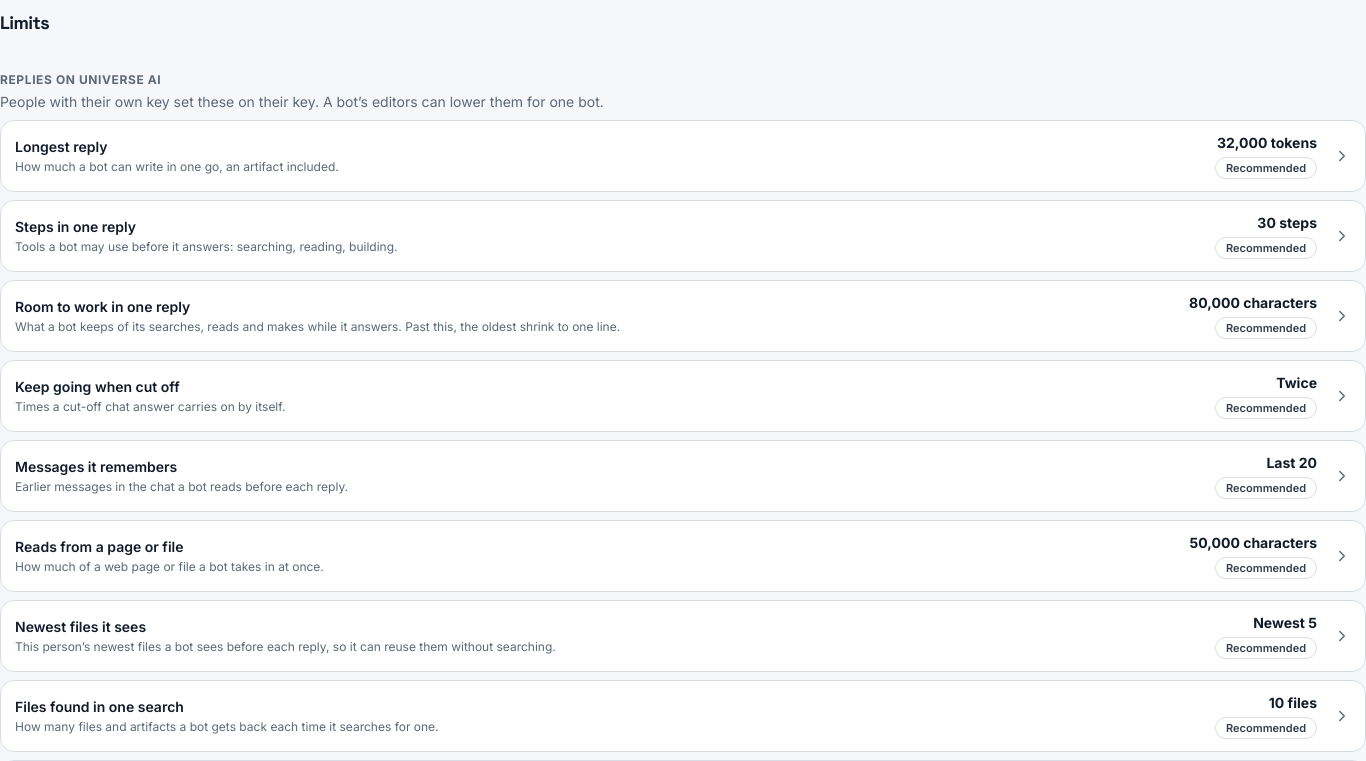
Universe AI limits › turns down typed text that is not a plain number instead of saving a changed one
Click the button with test id "limit-results".
click(99, 706)  # box [0,680,1365,752]
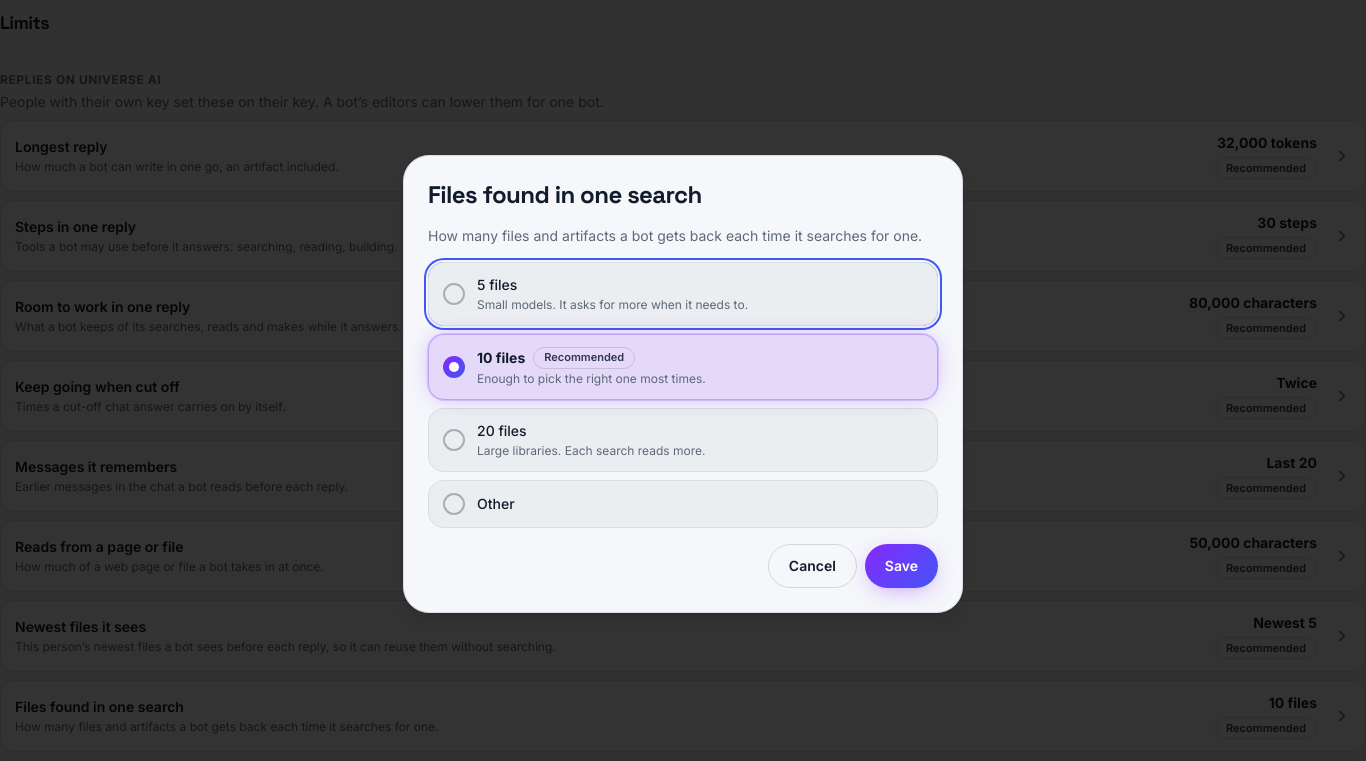
Click the radio button labelled "Other".
click(496, 504)  # box [428,480,938,528]
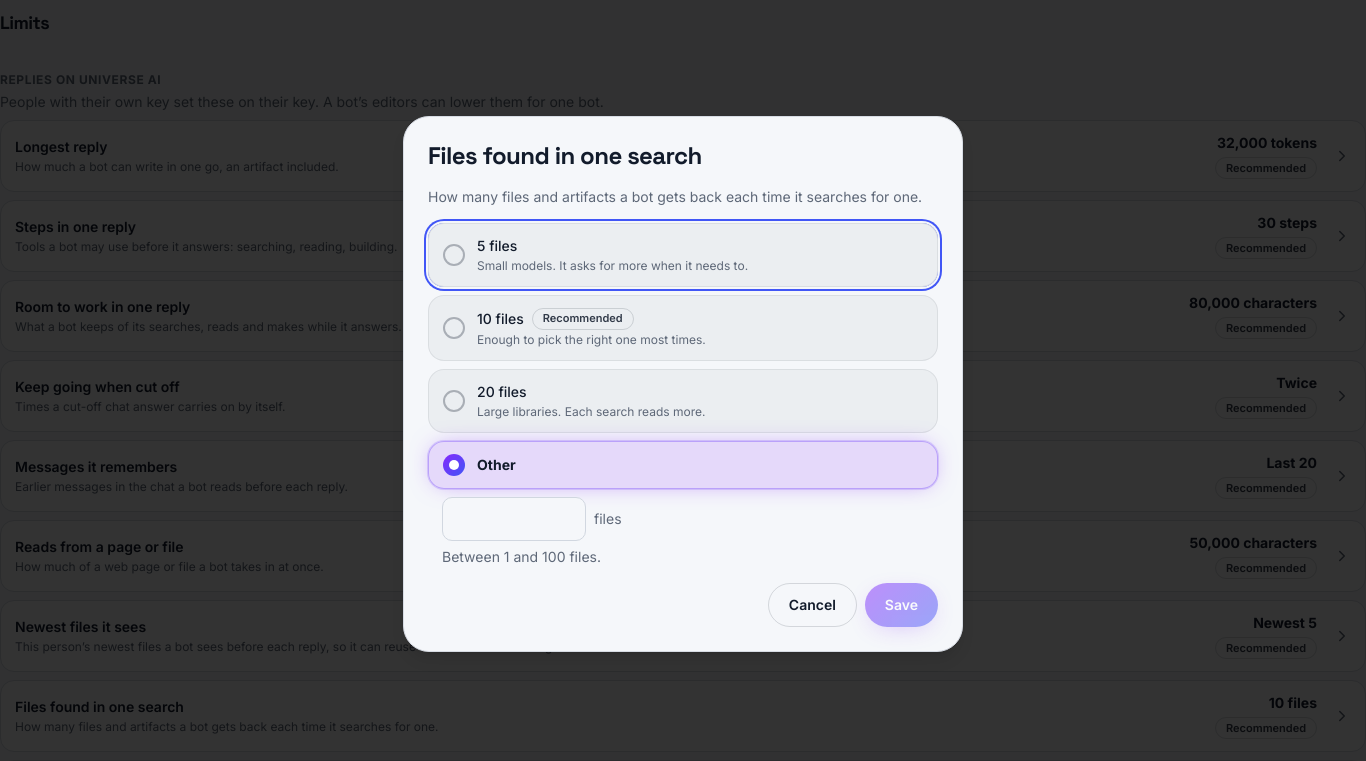
Type "-50" into the field named "Files found in one search, in".
click(514, 519); type("-50")  # box [442,497,586,541]
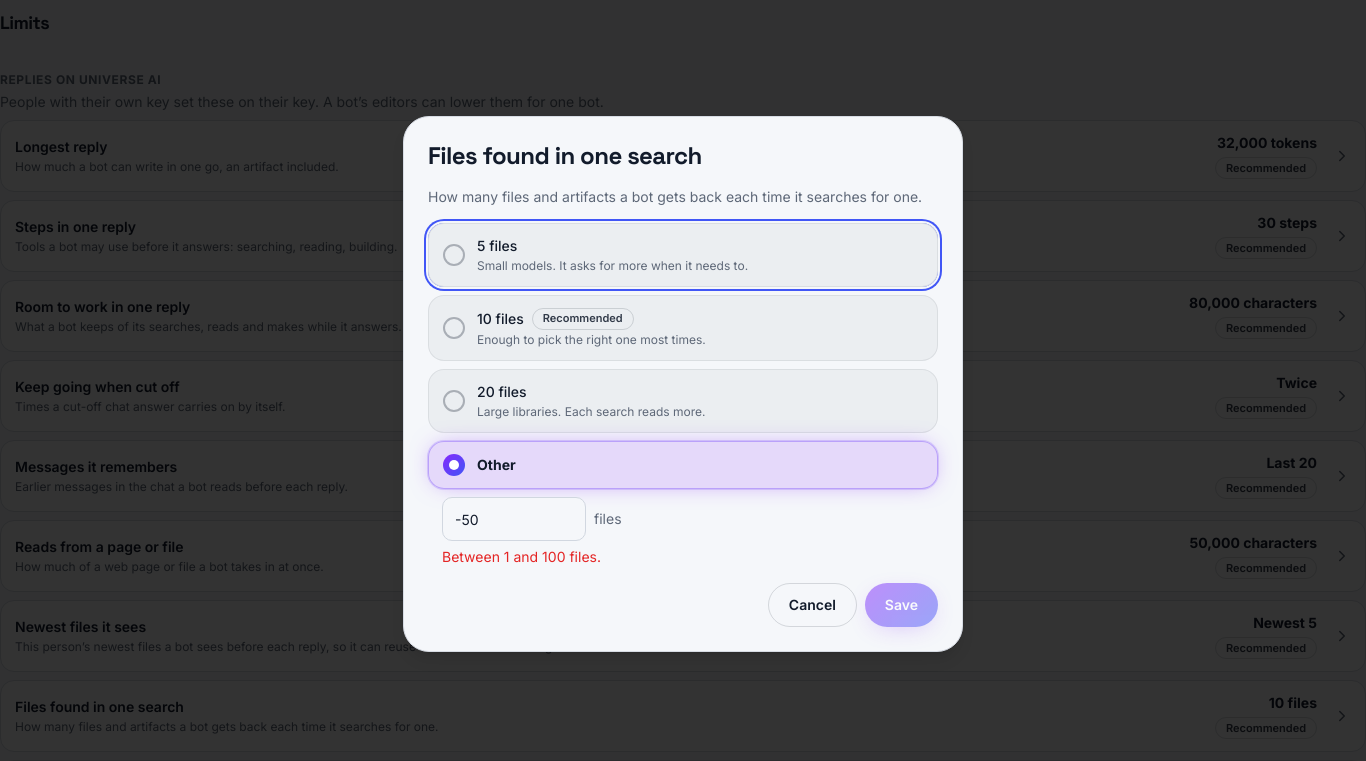
Now the message reads "Between 1 and 100 files.", box [442,548,601,565]
Now the button "Save" is disabled, box [865,583,938,627]
Replace the text in the field named "Files found in one search, in" with "1e2" at (514, 519), box [442,497,586,541]
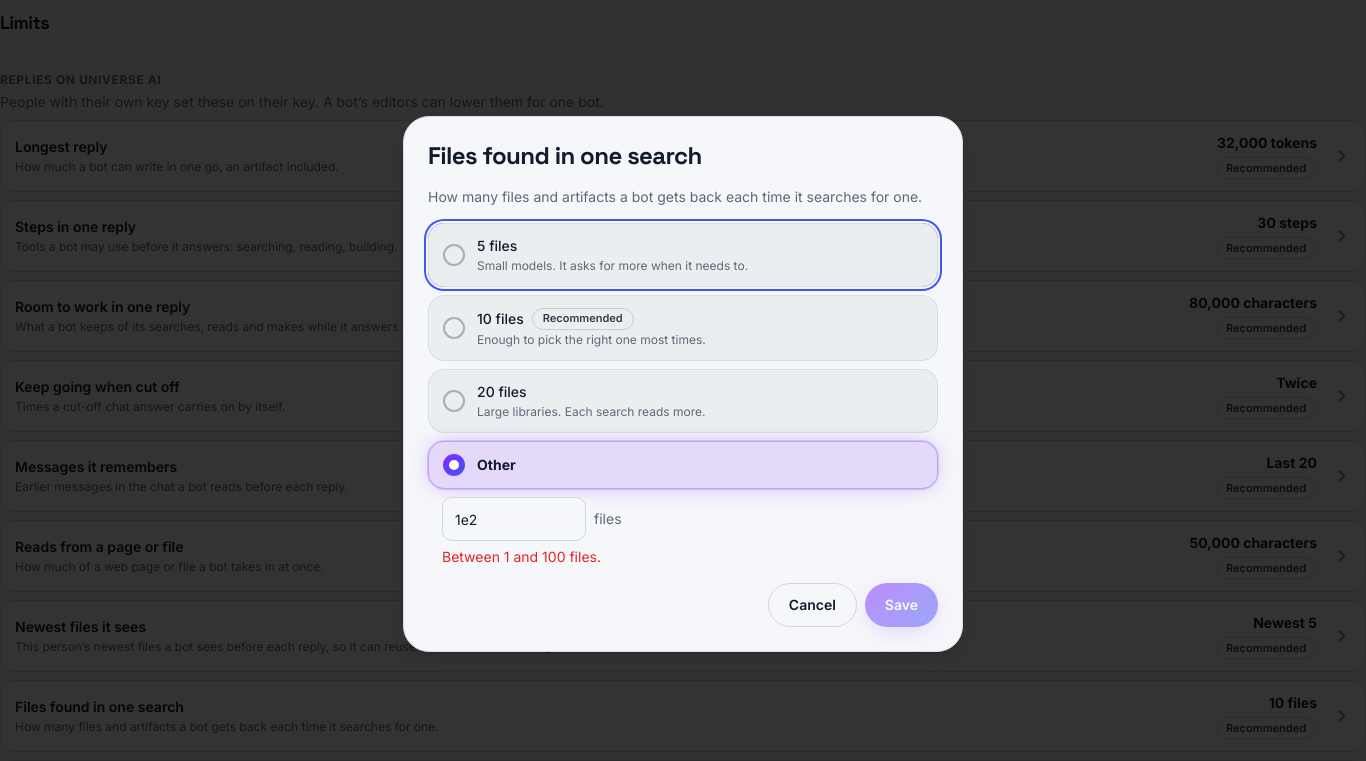
Now the message reads "Between 1 and 100 files.", box [442,548,601,565]
Now the button "Save" is disabled, box [865,583,938,627]
Replace the text in the field named "Files found in one search, in" with "5-0" at (514, 519), box [442,497,586,541]
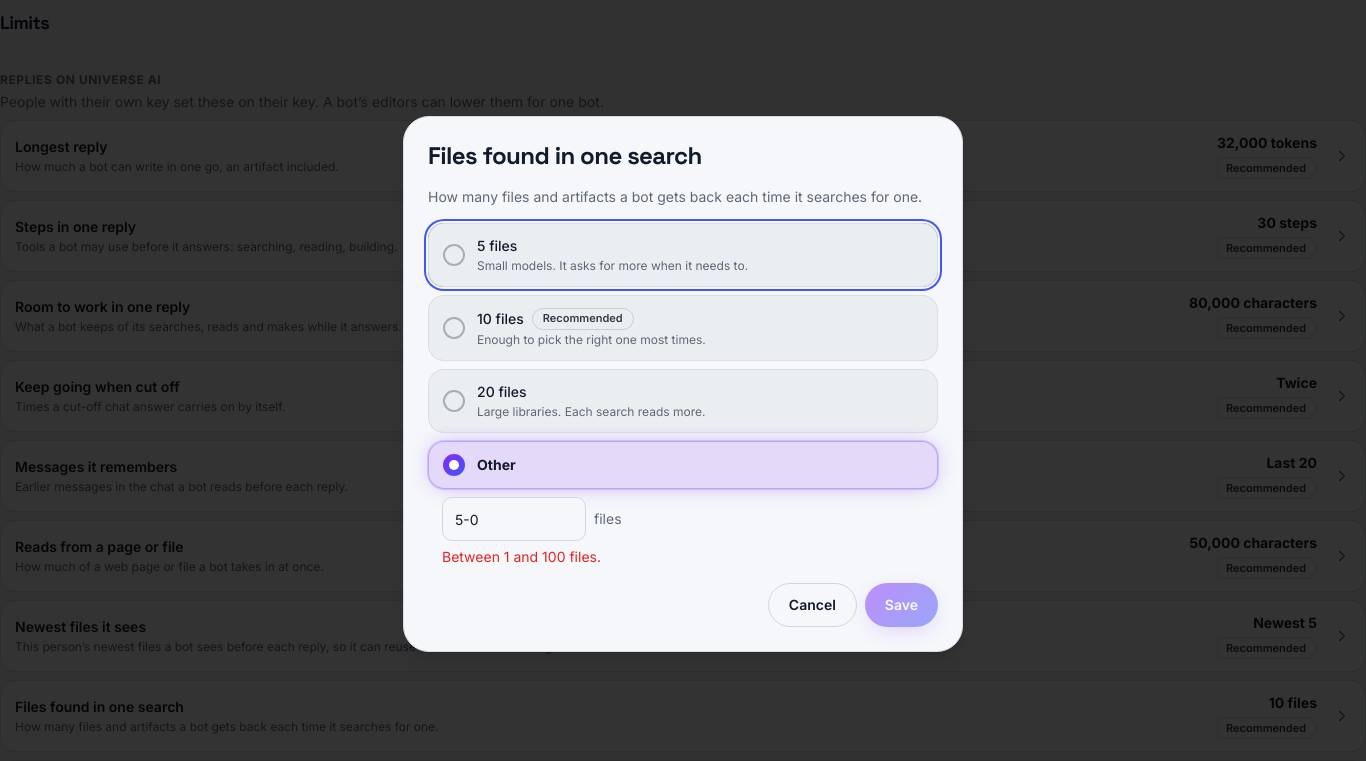
Now the message reads "Between 1 and 100 files.", box [442,548,601,565]
Now the button "Save" is disabled, box [865,583,938,627]
Replace the text in the field named "Files found in one search, in" with " 3 0 " at (514, 519), box [442,497,586,541]
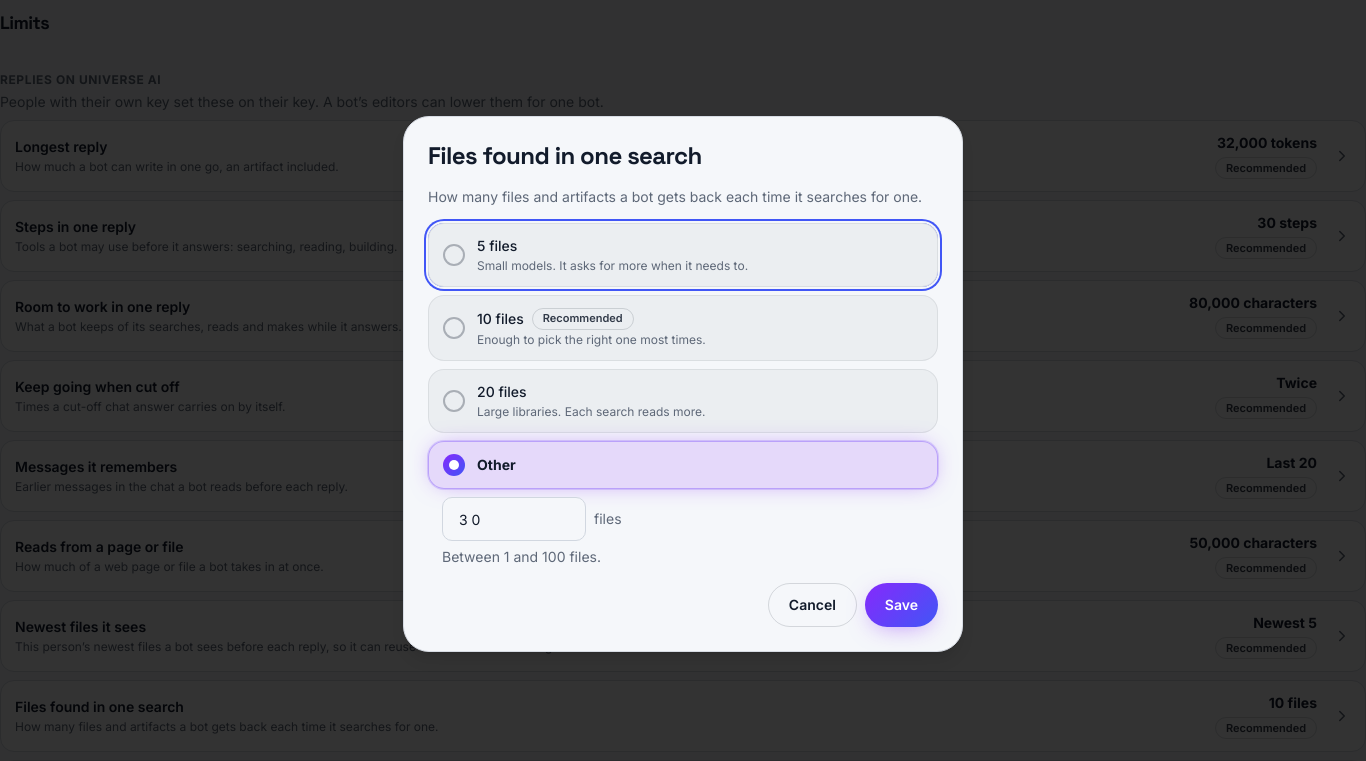
Now the button "Save" is enabled, box [865,583,938,627]
